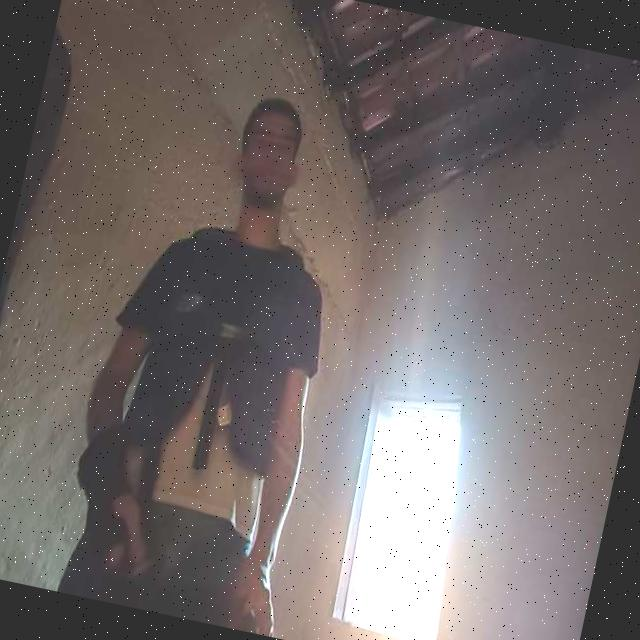colete: (126, 215, 320, 480)
pessoa: (48, 70, 385, 638)
